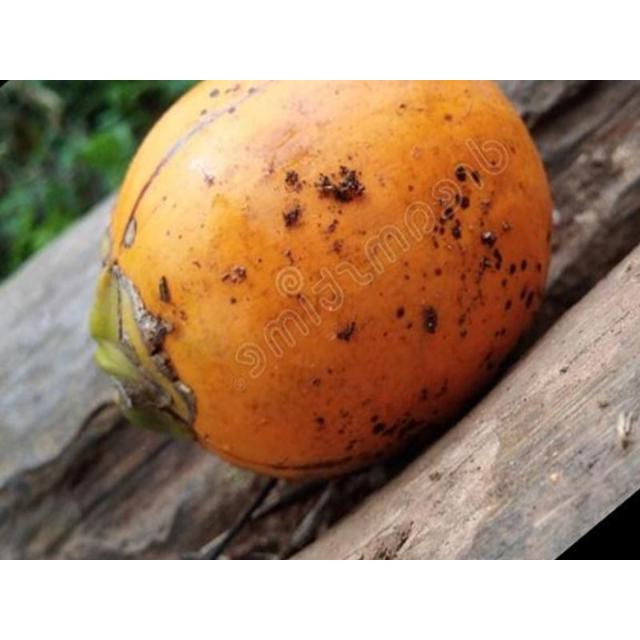good: (89, 80, 554, 486)
